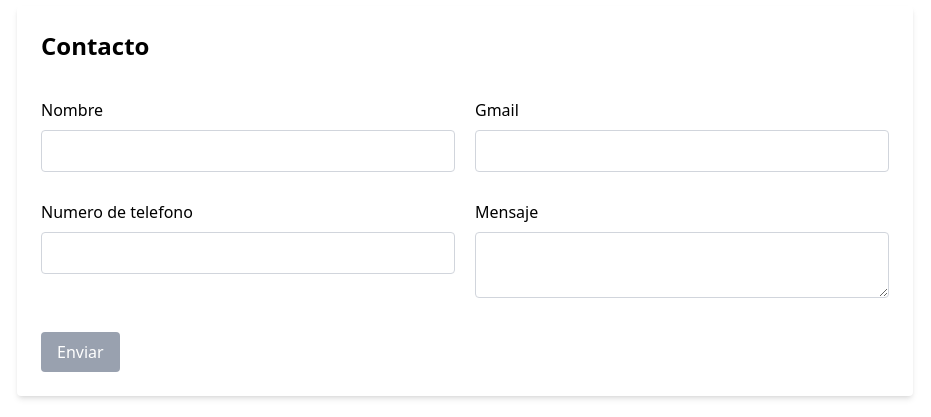
Test case: ContactUs Form Validation and Submission › El botón de envío se habilita cuando todos los campos son válidos
Type "John Doe" into the field labelled "Nombre" at [248, 151], box [41,130,455,172]
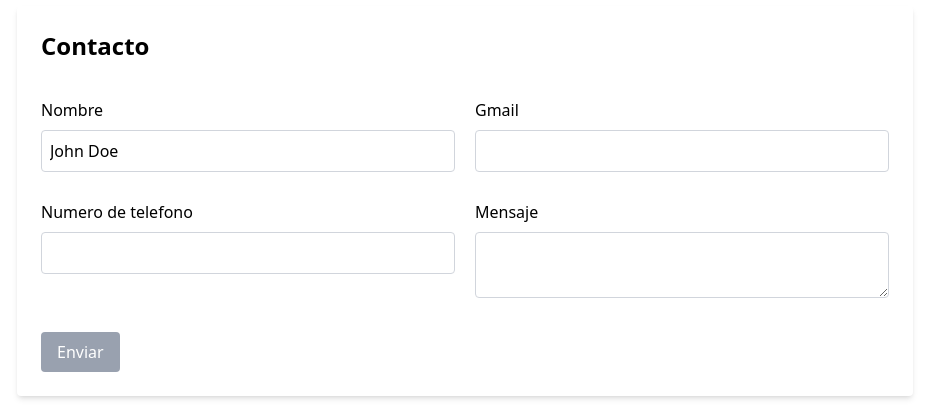
Type "john.doe@example.com" into the field labelled "Gmail" at [682, 151], box [475,130,889,172]
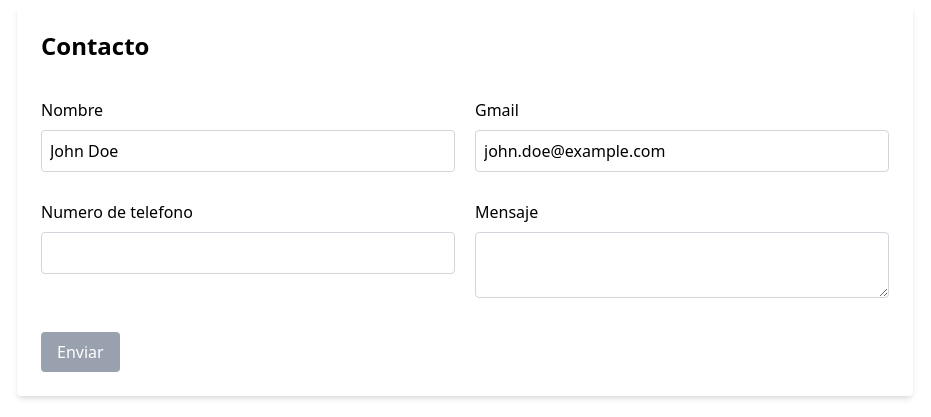
Type "1234567890" into the field labelled "Numero de telefono" at [248, 253], box [41,232,455,274]
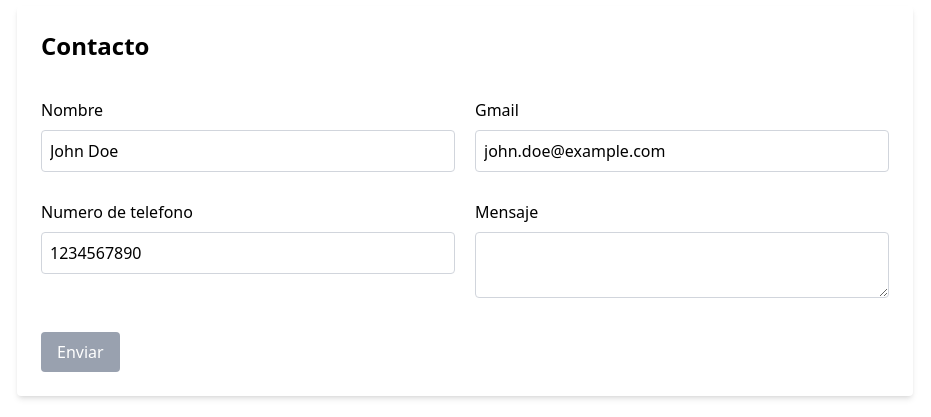
Type "This is a test message." into the text box labelled "Mensaje" at [682, 265], box [475,232,889,298]
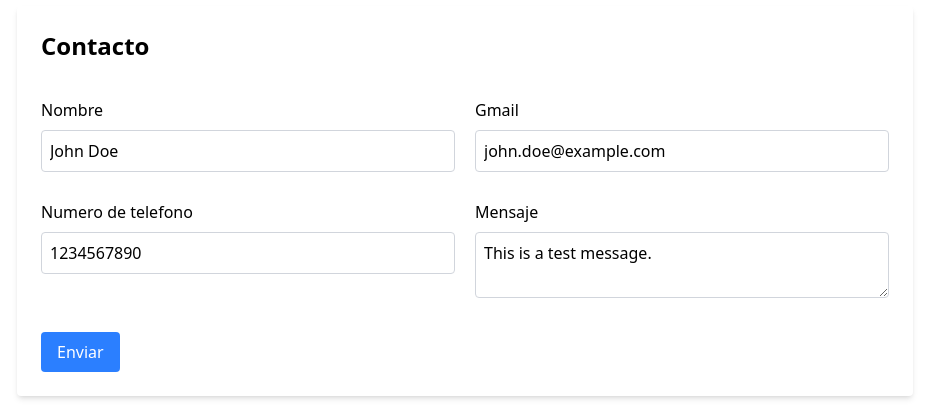
Result: the button "Enviar" is enabled at [41,332,120,372]
